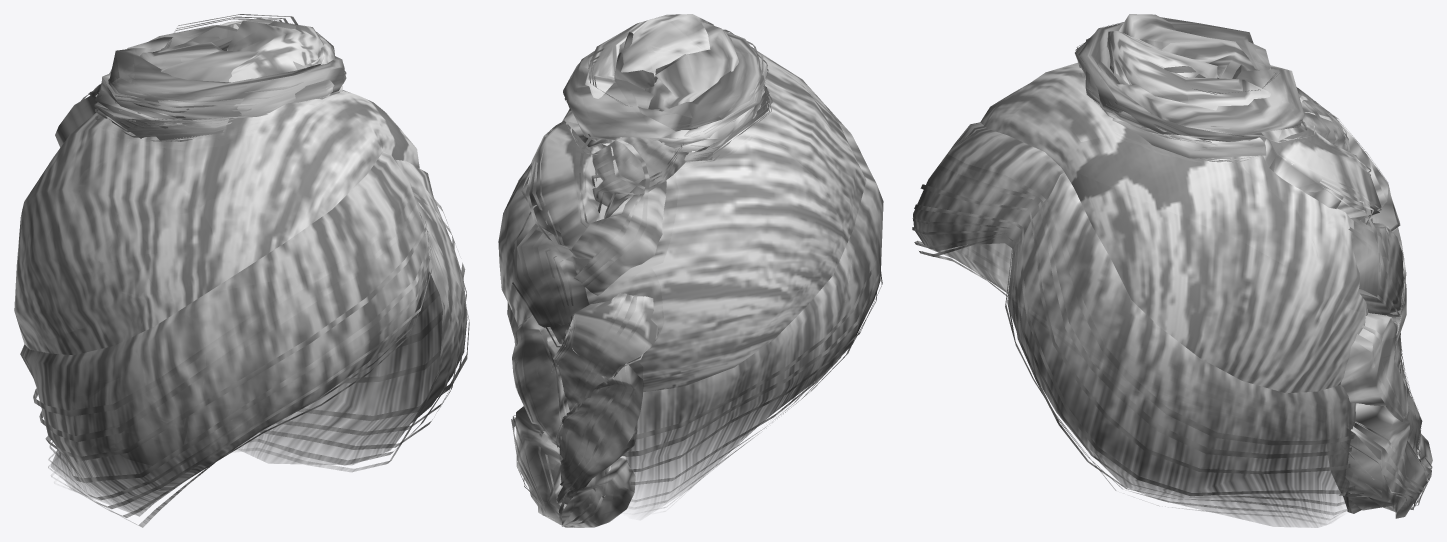
The model's file is daz_hair_french_braid_bun.glb.
3 renders of one model, left to right at view 1: azimuth 30°, elevation 25°; view 2: azimuth 150°, elevation 25°; view 3: azimuth 270°, elevation 25°, orthographic. The views are drawn at different scales.
Visible parts, largest first — view 1: daz_hair_french_braid_bun; view 2: daz_hair_french_braid_bun; view 3: daz_hair_french_braid_bun.
Boxes of the visible parts, box(x1,y1,x2,y2) form: daz_hair_french_braid_bun: box(14, 14, 469, 527); daz_hair_french_braid_bun: box(498, 14, 883, 527); daz_hair_french_braid_bun: box(912, 14, 1432, 527).
Size of the model in its own units: 0.1837 by 0.2444 by 0.2414.
Materials: 1 (1 with a texture image).
